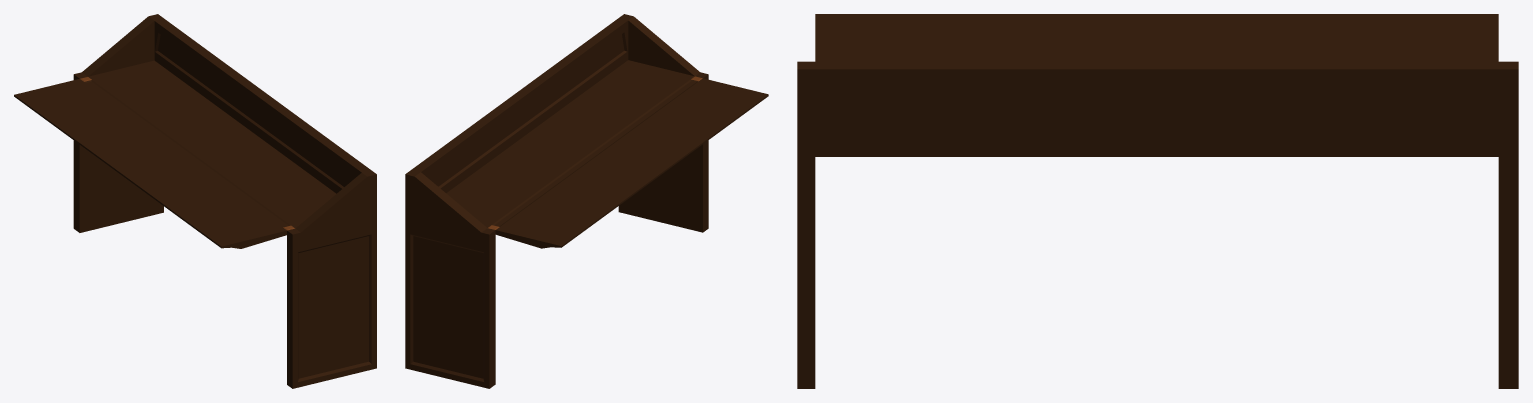
Rendered from Desk.fbx.
The picture shows the model from 3 angles, left to right: view 1: azimuth 30°, elevation 25°; view 2: azimuth 150°, elevation 25°; view 3: azimuth 270°, elevation 25°; orthographic projection. The views are drawn at different scales.
Visible parts, largest first — view 1: Desk; view 2: Desk; view 3: Desk.
Boxes of the visible parts, <box> form: Desk: <box>14,14,376,388</box>; Desk: <box>405,14,768,388</box>; Desk: <box>797,14,1518,388</box>.
Size of the model in its own units: 178 by 220 by 450.
